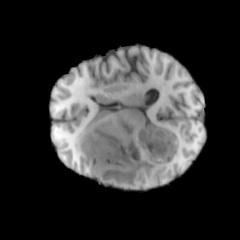glioma: (75, 115, 181, 188)
